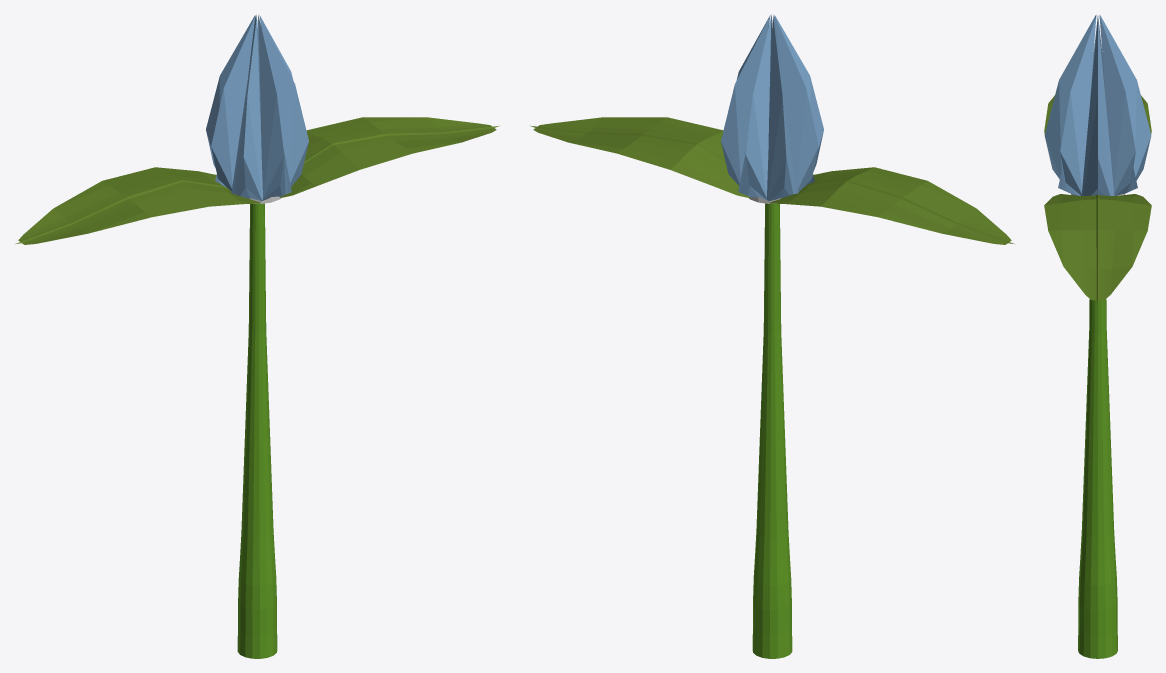
File: sprout2.fbx
3 views of the same model, side by side, from view 1: azimuth 30°, elevation 25°; view 2: azimuth 150°, elevation 25°; view 3: azimuth 270°, elevation 25° (orthographic).
Parts seen in each view (by area): view 1: leaf, Circle.001, stem; view 2: leaf, Circle.001, stem; view 3: Circle.001, stem, leaf.
Part boxes in pixels (left/top/right/bottom): leaf: left=15, top=117, right=499, bottom=244; Circle.001: left=206, top=14, right=308, bottom=201; stem: left=237, top=203, right=277, bottom=658; leaf: left=530, top=117, right=1014, bottom=244; Circle.001: left=721, top=14, right=823, bottom=201; stem: left=752, top=203, right=792, bottom=658; Circle.001: left=1044, top=15, right=1151, bottom=195; stem: left=1078, top=299, right=1117, bottom=658; leaf: left=1044, top=95, right=1151, bottom=302.
Bounding box in the file's own units: 195 × 243 × 37.37.
